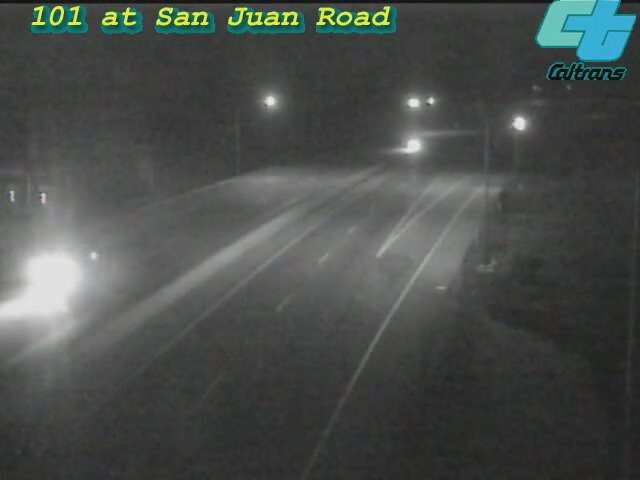vehicle: (11, 237, 91, 317), (389, 120, 439, 170), (496, 98, 546, 148)
